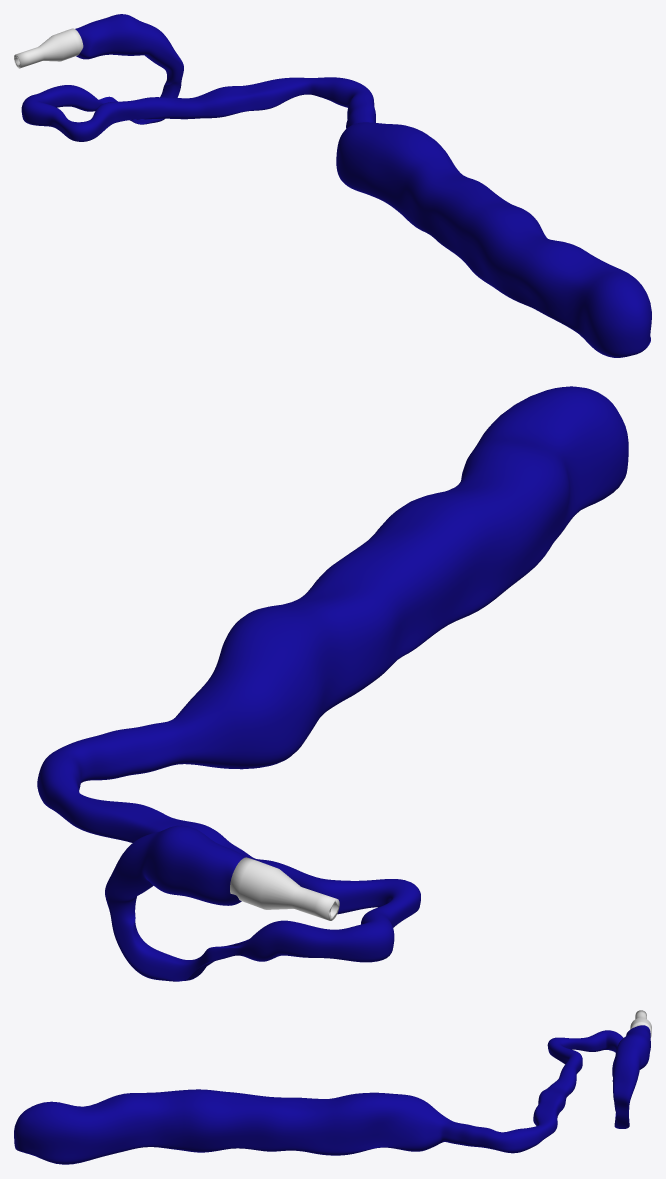
Rendered from cave01.glb.
3 views of the same model, one above another, from view 1: azimuth 30°, elevation 25°; view 2: azimuth 150°, elevation 25°; view 3: azimuth 270°, elevation 25° (orthographic). The views are drawn at different scales.
Visible parts, largest first — view 1: cave01-col, Cylinder-col; view 2: cave01-col, Cylinder-col; view 3: cave01-col, Cylinder-col.
Boxes of the visible parts, <box> form: cave01-col: <box>21,14,651,357</box>; Cylinder-col: <box>14,28,83,68</box>; cave01-col: <box>37,386,628,981</box>; Cylinder-col: <box>230,857,339,920</box>; cave01-col: <box>14,1025,650,1164</box>; Cylinder-col: <box>630,1010,651,1037</box>.
Bounding box in the file's own units: 2357 × 836 × 5835.
